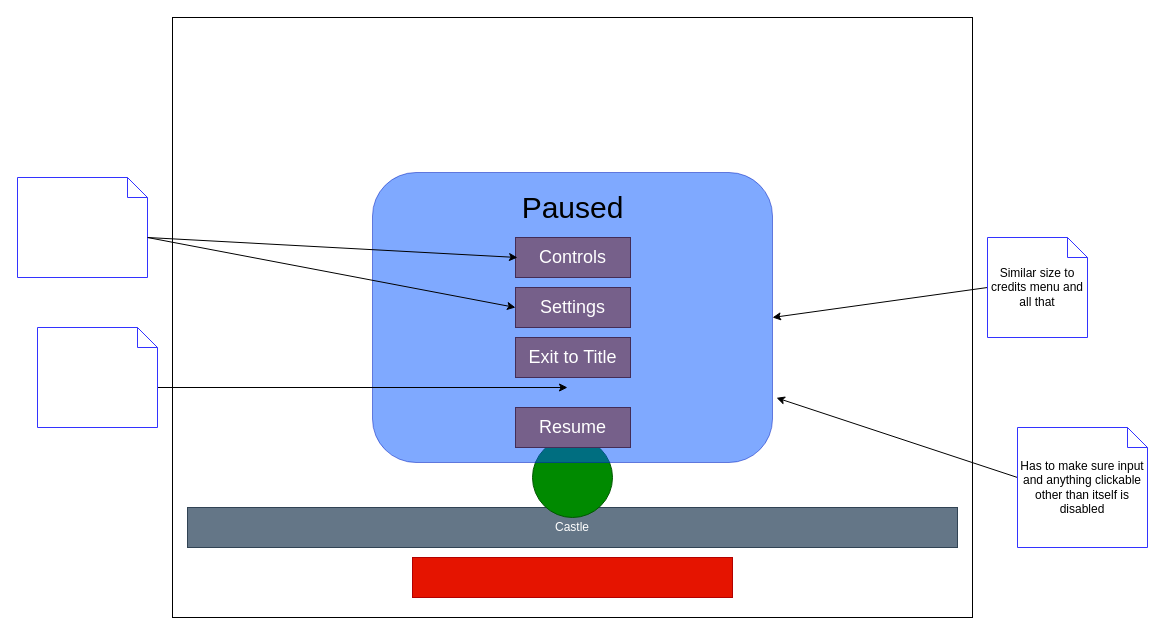
This 1165x635 diagram has some shape labels left out. Each missing label, with the centre of its shape:
Health Bar: the point at 572,577
Opens the same menus from main menu: the point at 82,227
Player: the point at 572,477
This little space is necessary to discern the resume button from the rest: the point at 97,377
